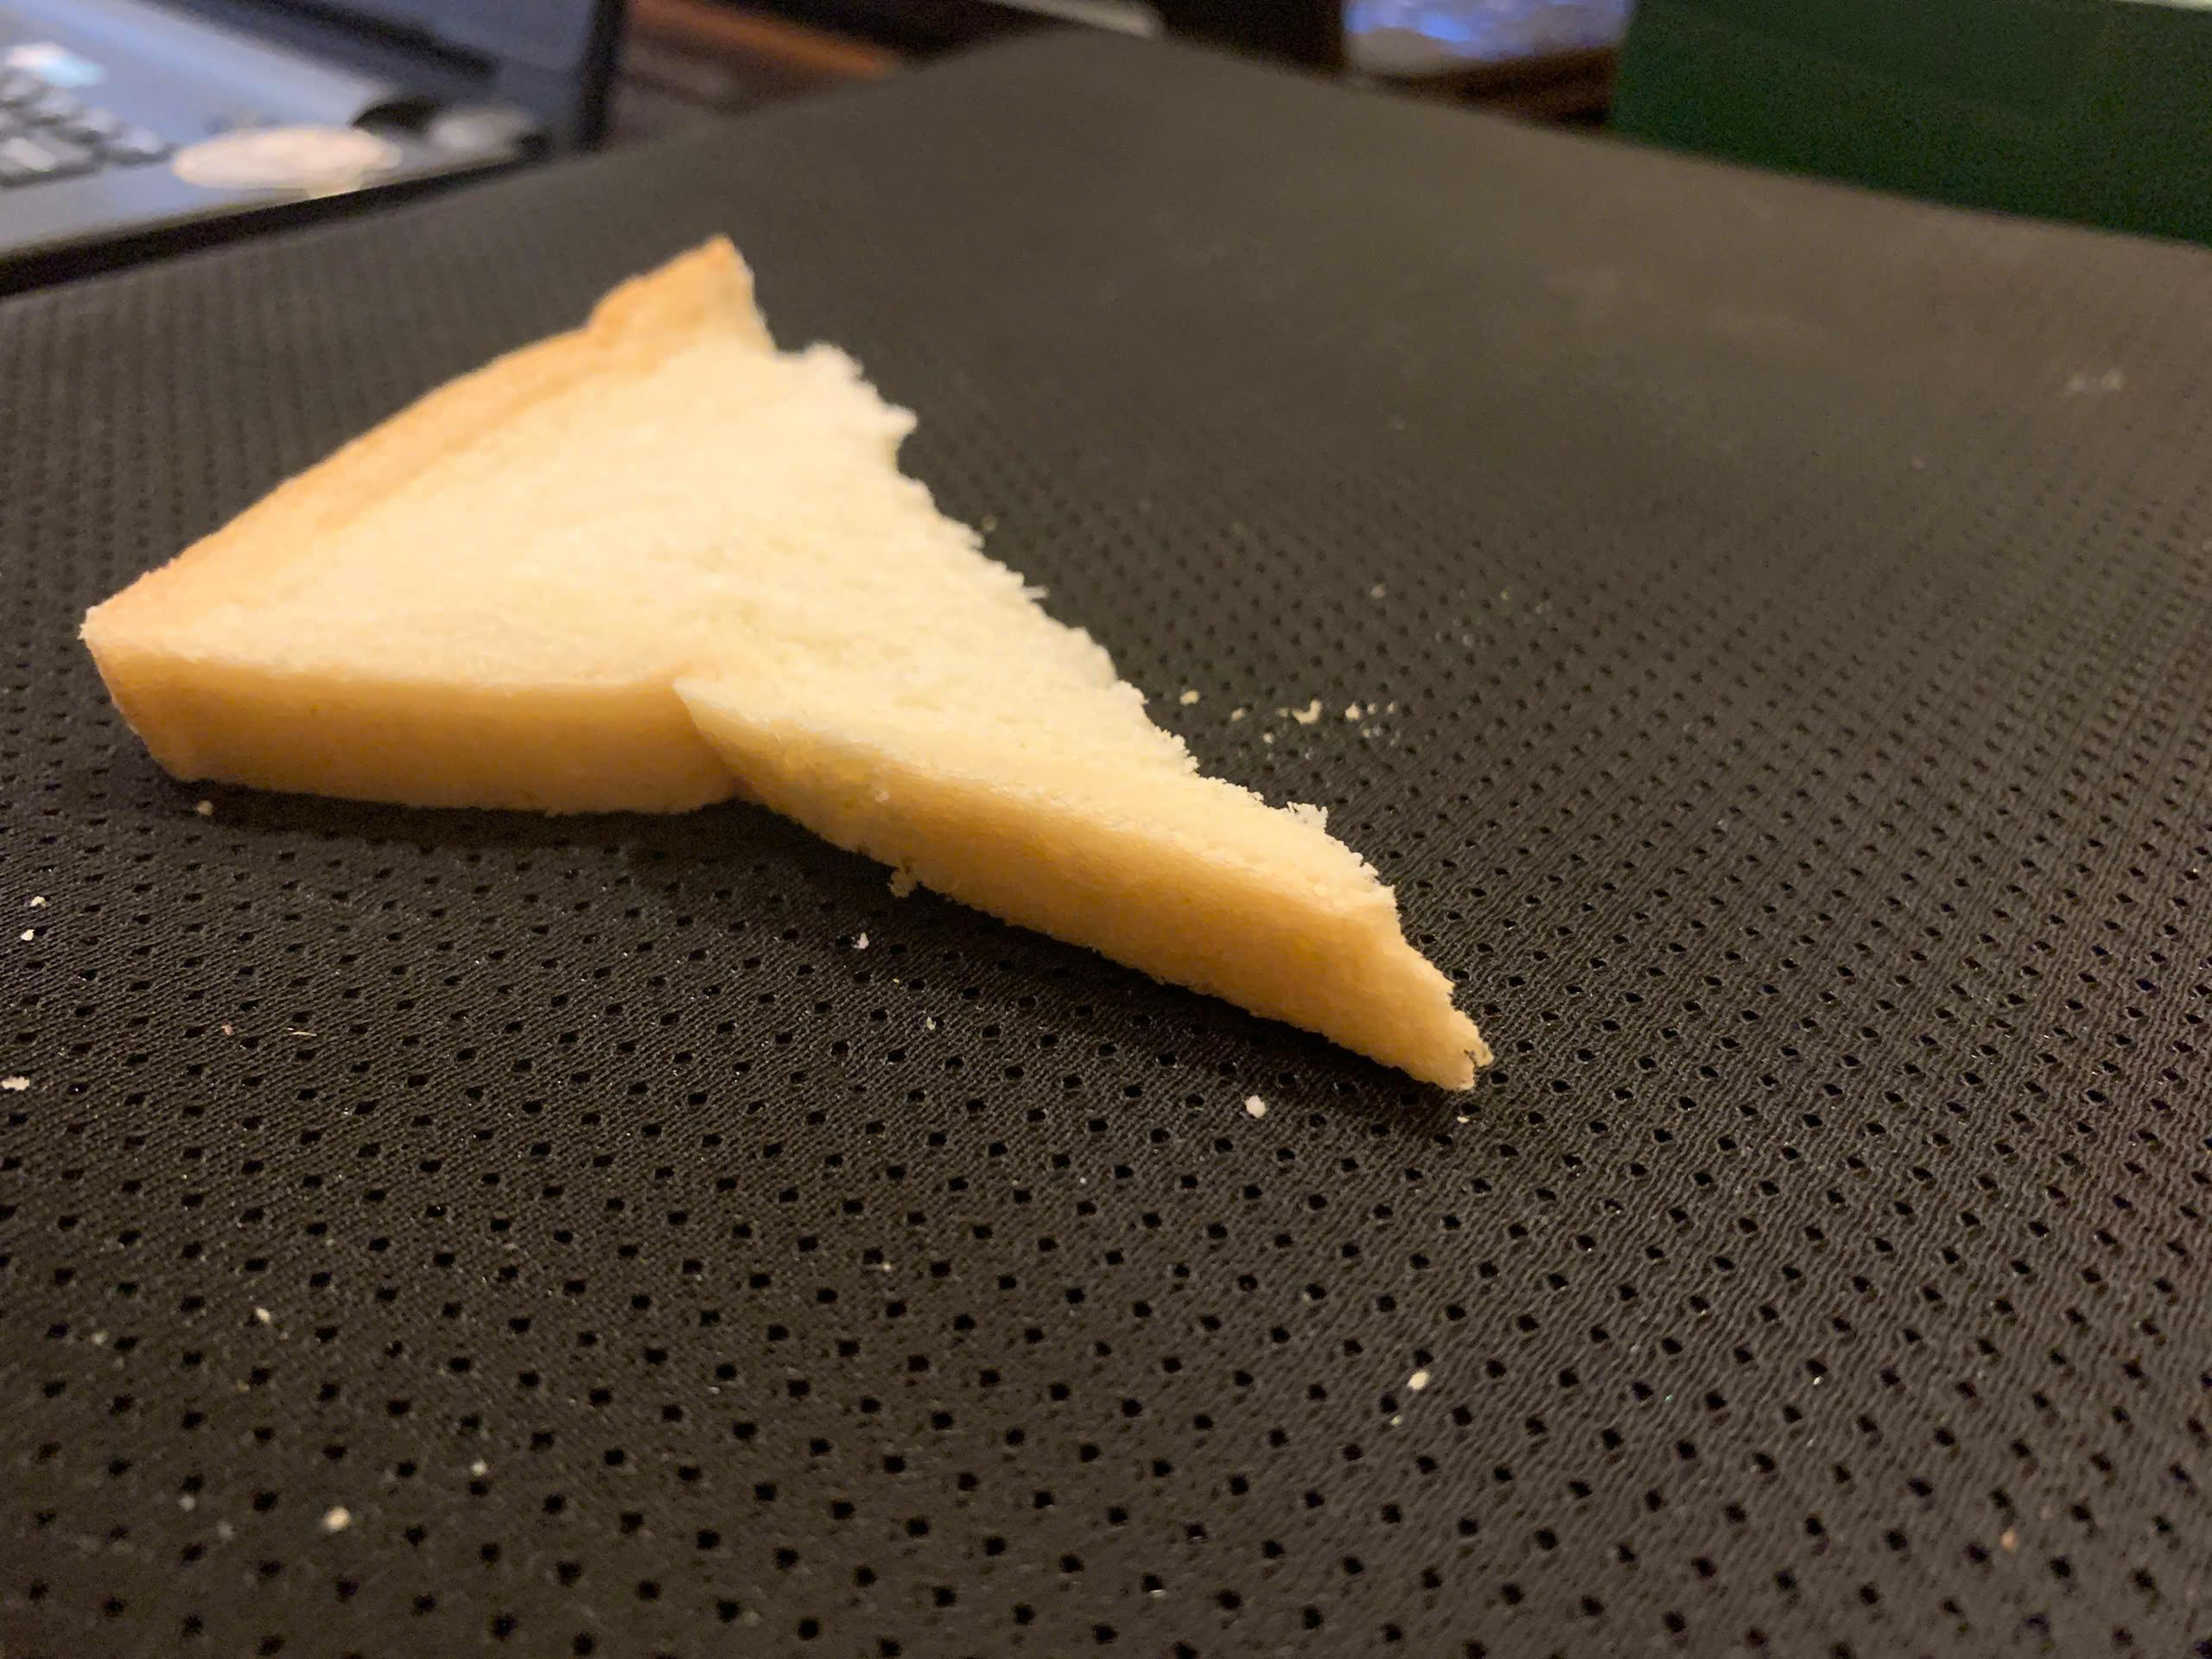Huu co: (84, 232, 1498, 1093)
